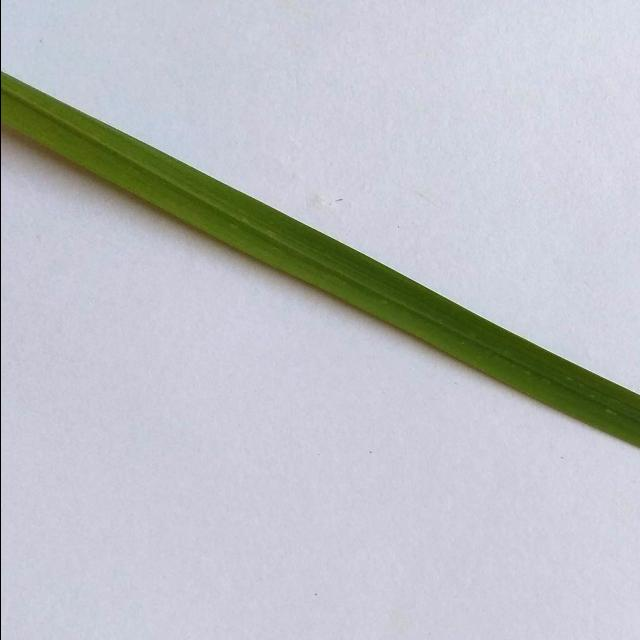healthy: (0, 66, 640, 460)
